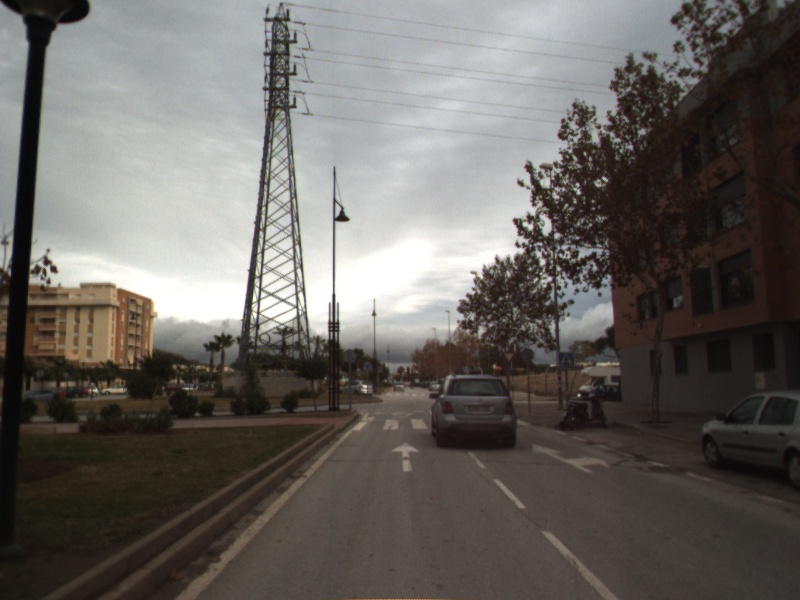STRAIGHT: (389, 440, 422, 474)
STRAIGHT_RIGHT: (530, 442, 612, 474)
